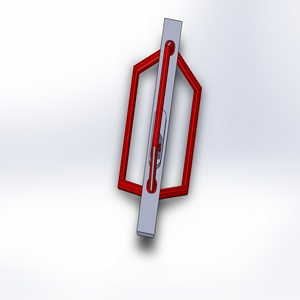submarine: (113, 8, 224, 250)
